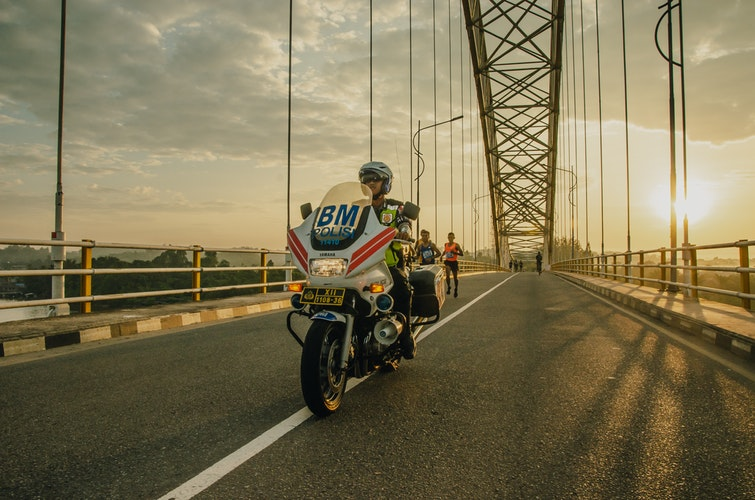helmet: (353, 159, 396, 190)
